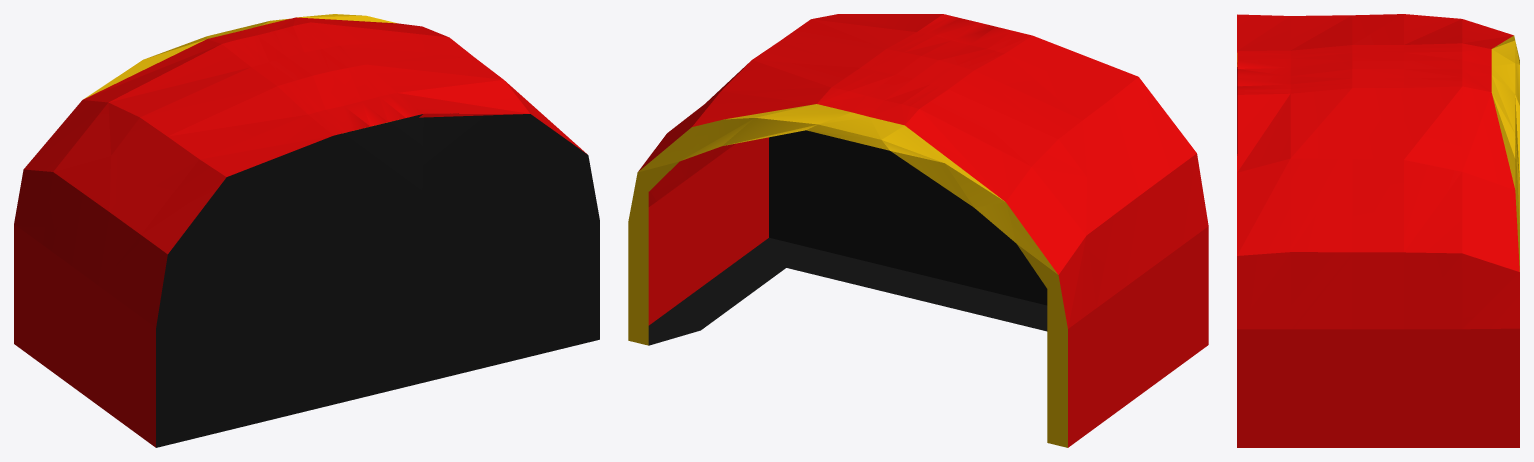
Rendered from Cowl.1cRL.Export.glb.
3 renders of one model, left to right at view 1: azimuth 30°, elevation 25°; view 2: azimuth 150°, elevation 25°; view 3: azimuth 270°, elevation 25°, orthographic.
Visible parts, largest first — view 1: Cube.00RL; view 2: Cube.00RL; view 3: Cube.00RL.
Part boxes in pixels (<box>): Cube.00RL: <box>14,14,599,447</box>; Cube.00RL: <box>628,14,1208,447</box>; Cube.00RL: <box>1237,14,1519,447</box>.
Size of the model in its own units: 0.9375 by 0.5612 by 0.5198.
